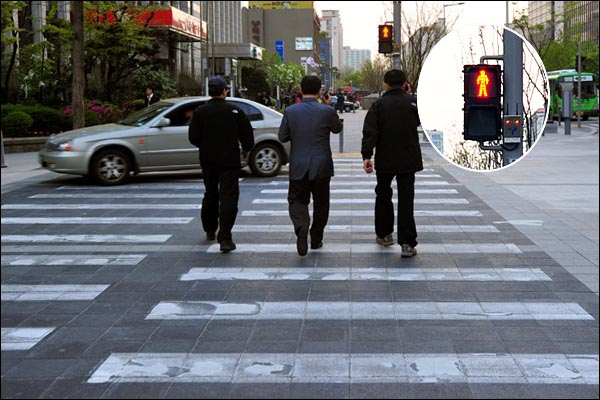traffic_light: (462, 67, 501, 141), (378, 24, 394, 55)
